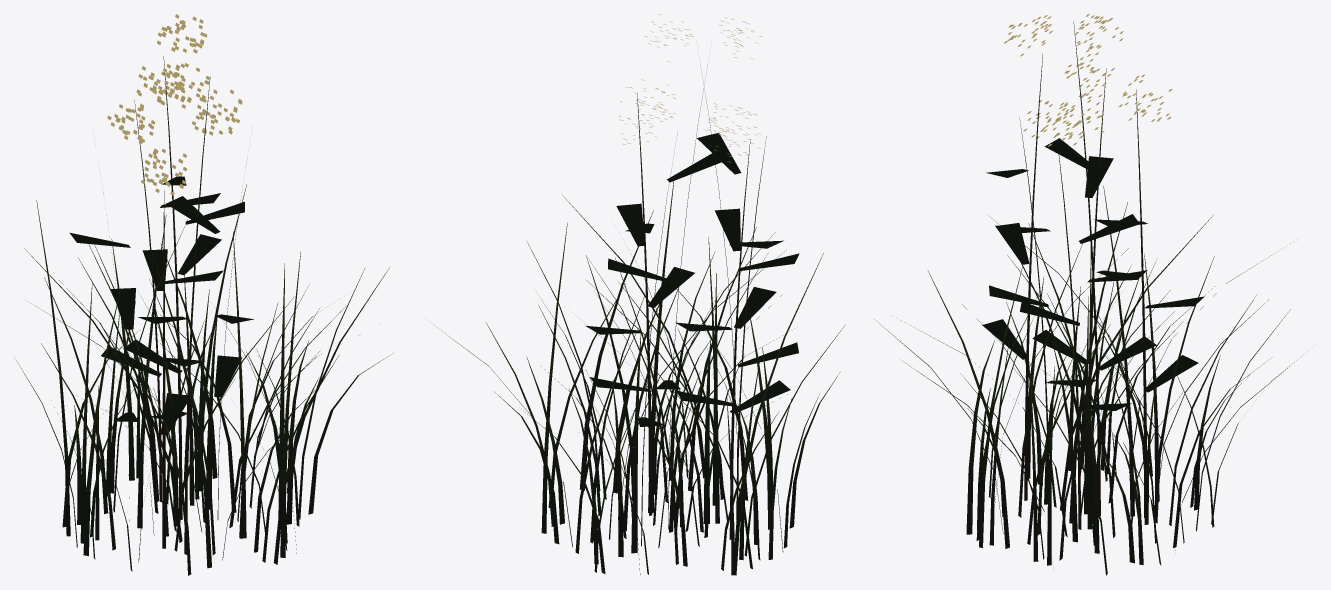
Rendered from SM_Meadowsweet.fbx.
3 views of the same model, side by side, from view 1: azimuth 30°, elevation 25°; view 2: azimuth 150°, elevation 25°; view 3: azimuth 270°, elevation 25° (orthographic).
Parts seen in each view (by area): view 1: SM_Meadowsweet; view 2: SM_Meadowsweet; view 3: SM_Meadowsweet.
Part boxes in pixels (<box>): SM_Meadowsweet: <box>14,14,392,575</box>; SM_Meadowsweet: <box>433,14,844,575</box>; SM_Meadowsweet: <box>874,14,1301,575</box>.
Bounding box in the file's own units: 86.6 × 105 × 131.
